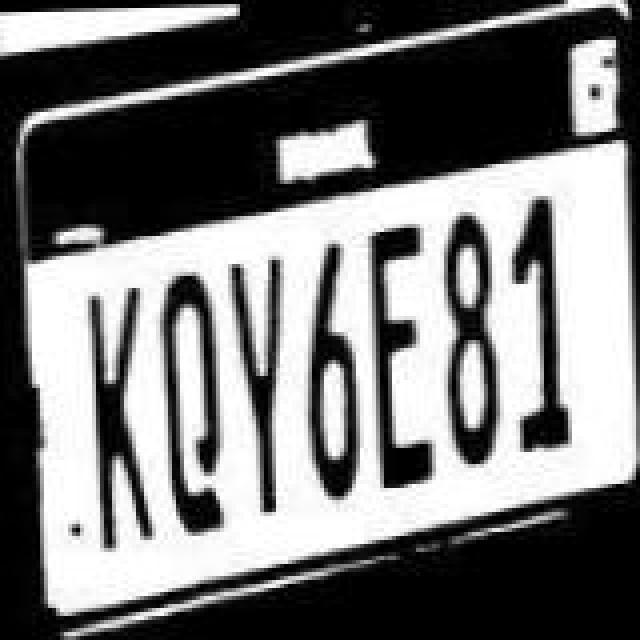1: (502, 182, 574, 458)
6: (298, 224, 366, 504)
8: (432, 196, 500, 472)
E: (364, 206, 436, 494)
K: (92, 286, 168, 574)
Q: (152, 262, 224, 546)
Y: (222, 244, 298, 528)
